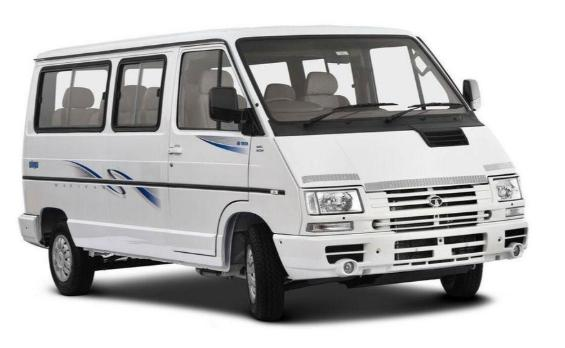van: (19, 16, 536, 327)
